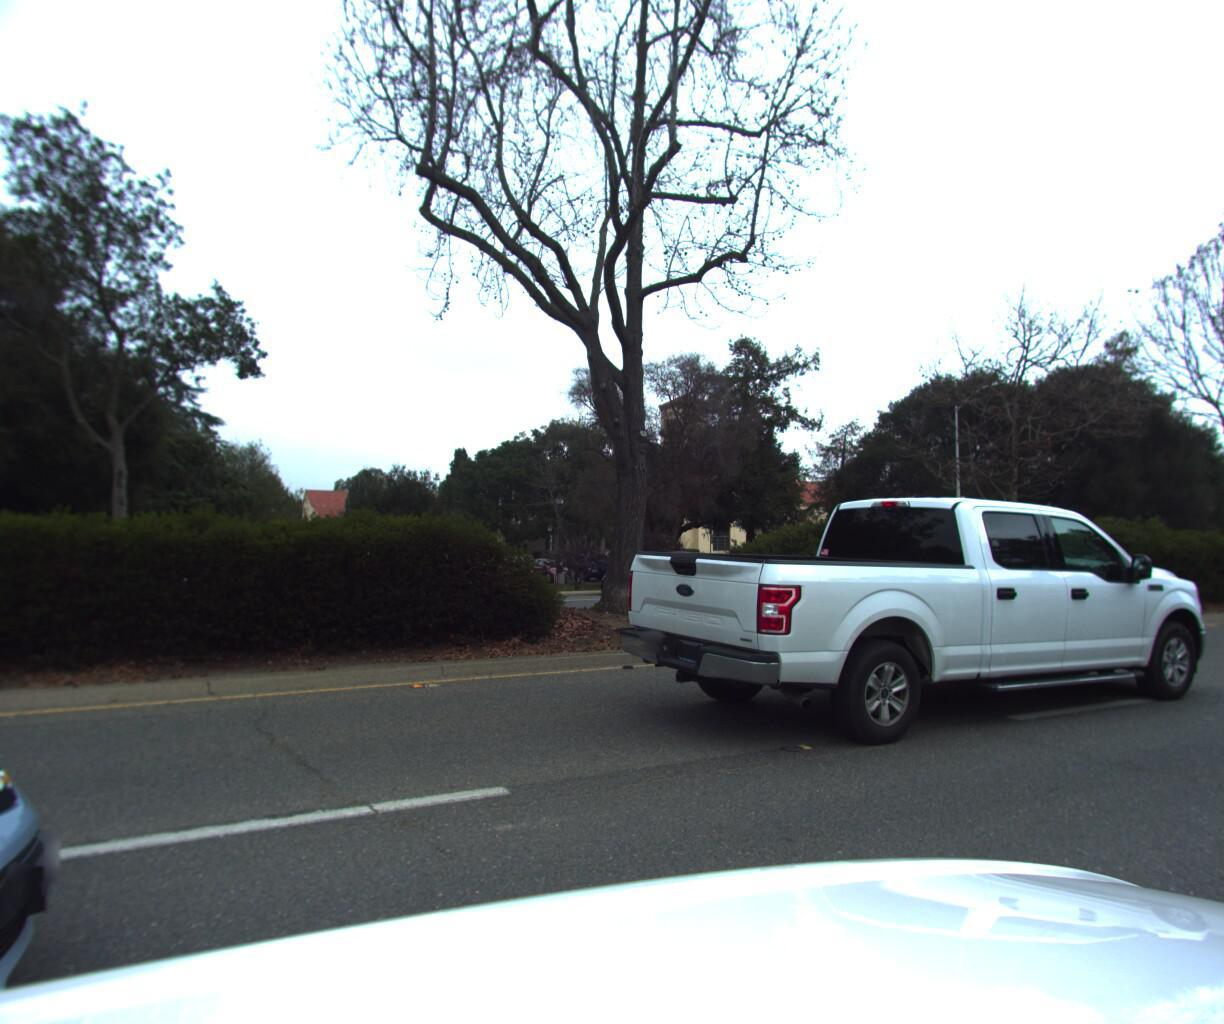car: (615, 475, 1224, 771), (0, 401, 194, 1024), (586, 548, 723, 595)
